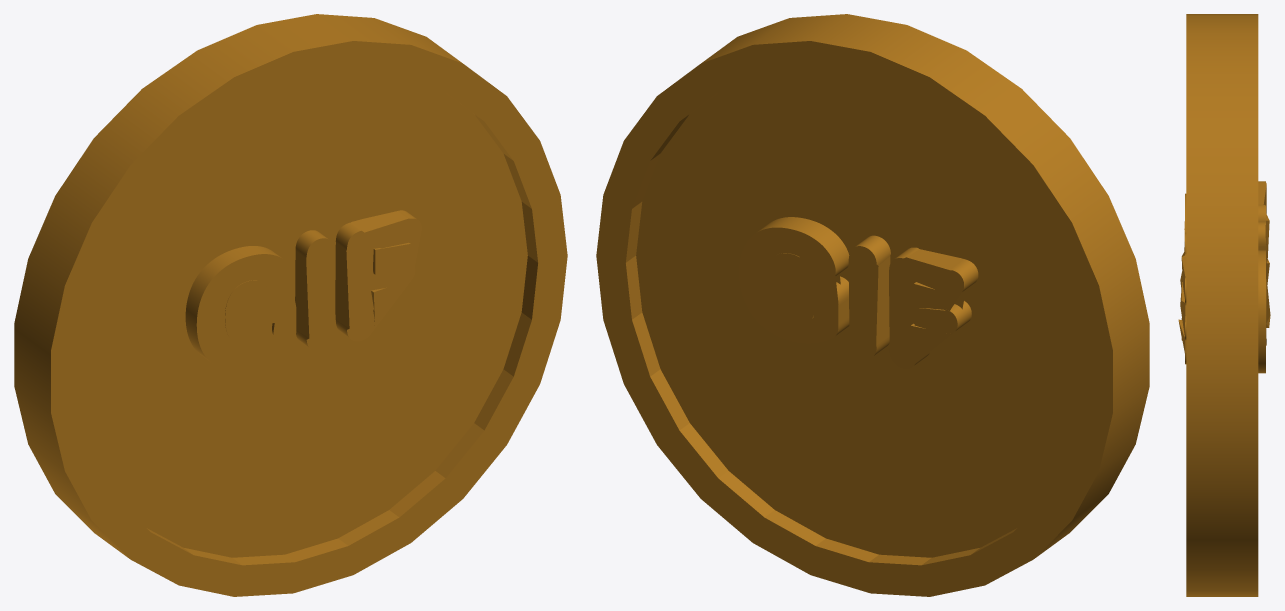
The model's file is coin_GIF.FBX.
3 renders of one model, left to right at view 1: azimuth 30°, elevation 25°; view 2: azimuth 150°, elevation 25°; view 3: azimuth 270°, elevation 25°, orthographic. The views are drawn at different scales.
Visible parts, largest first — view 1: Cylinder001; view 2: Cylinder001; view 3: Cylinder001.
Part boxes in pixels (left/top/right/bottom): Cylinder001: left=14, top=14, right=567, bottom=596; Cylinder001: left=596, top=14, right=1149, bottom=596; Cylinder001: left=1178, top=14, right=1270, bottom=596.
Bounding box in the file's own units: 63.1 × 63.21 × 9.98.
